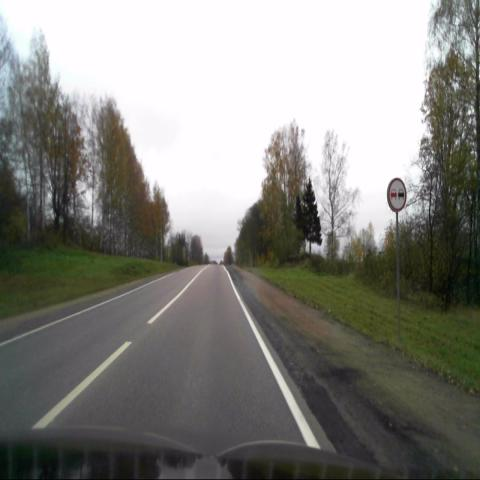3_20: (388, 178, 407, 214)
